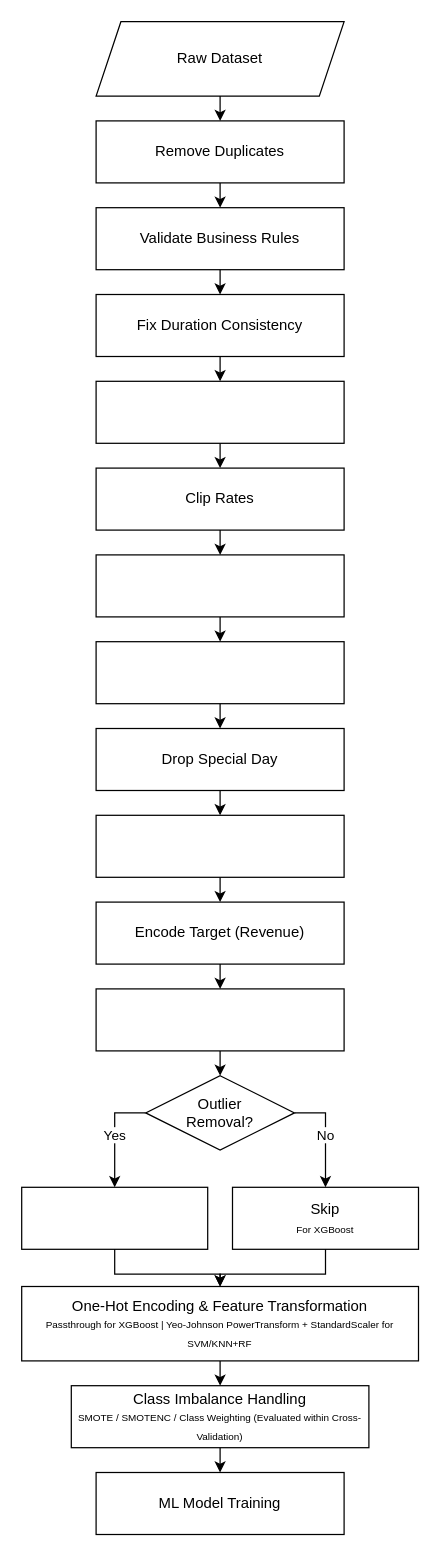
This 440x1556 diagram has some shape labels left out. Here are the shapes that lost their labels. From the top down, the centre of each, then its label:
At [219,411]: "Cap Duration Outliers".
At [219,585]: "Validate Categorical Values".
At [219,672]: "Group Rare Categories".
At [219,845]: "Handle Missing Value".
At [219,1019]: "Train/Test Split Stratified, 80%/20%".
At [114,1217]: "IQR Method For SVM/KNN+RF".
